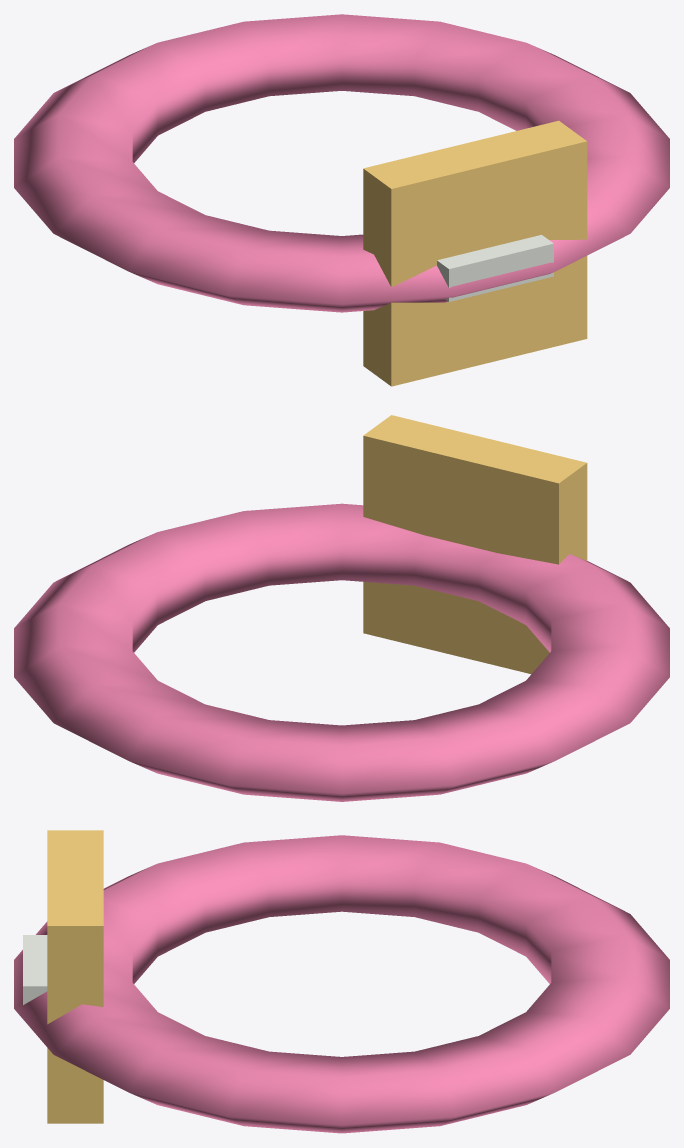
File: FestivalWristband.fbx
The picture shows the model from 3 angles, top to bottom: view 1: azimuth 30°, elevation 25°; view 2: azimuth 150°, elevation 25°; view 3: azimuth 270°, elevation 25°; orthographic projection.
Visible parts, largest first — view 1: FestivalWristband Rose__Rose, FestivalWristband Gold__Gold, FestivalWristband White__White; view 2: FestivalWristband Rose__Rose, FestivalWristband Gold__Gold; view 3: FestivalWristband Rose__Rose, FestivalWristband Gold__Gold, FestivalWristband White__White.
Part boxes in pixels (<box>): FestivalWristband Rose__Rose: <box>14,14,669,312</box>; FestivalWristband Gold__Gold: <box>363,120,587,386</box>; FestivalWristband White__White: <box>437,234,553,301</box>; FestivalWristband Rose__Rose: <box>14,503,669,801</box>; FestivalWristband Gold__Gold: <box>363,415,587,674</box>; FestivalWristband Rose__Rose: <box>14,835,669,1133</box>; FestivalWristband Gold__Gold: <box>47,830,103,1123</box>; FestivalWristband White__White: <box>23,935,47,1004</box>.
Size of the model in its own units: 82.5 by 27 by 81.25.
